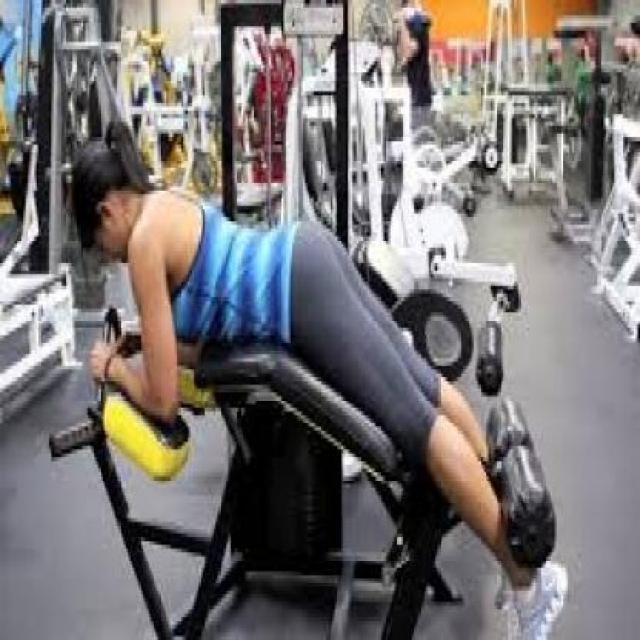reg curl machine: (32, 114, 572, 640)
